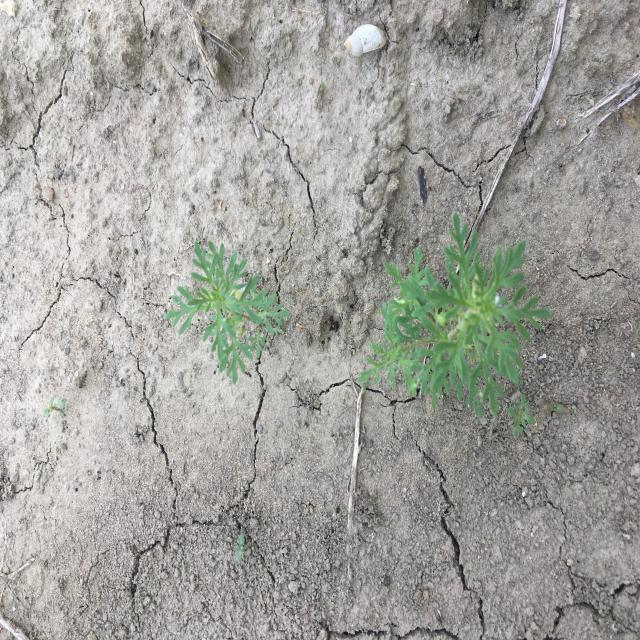Ragweed: (354, 210, 554, 418), (162, 238, 292, 388), (503, 391, 537, 439)
